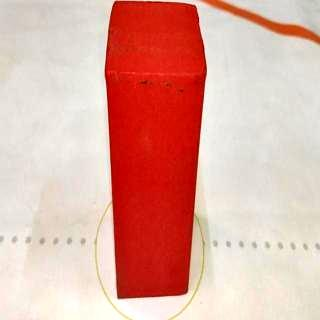redbox: (106, 0, 206, 299)
